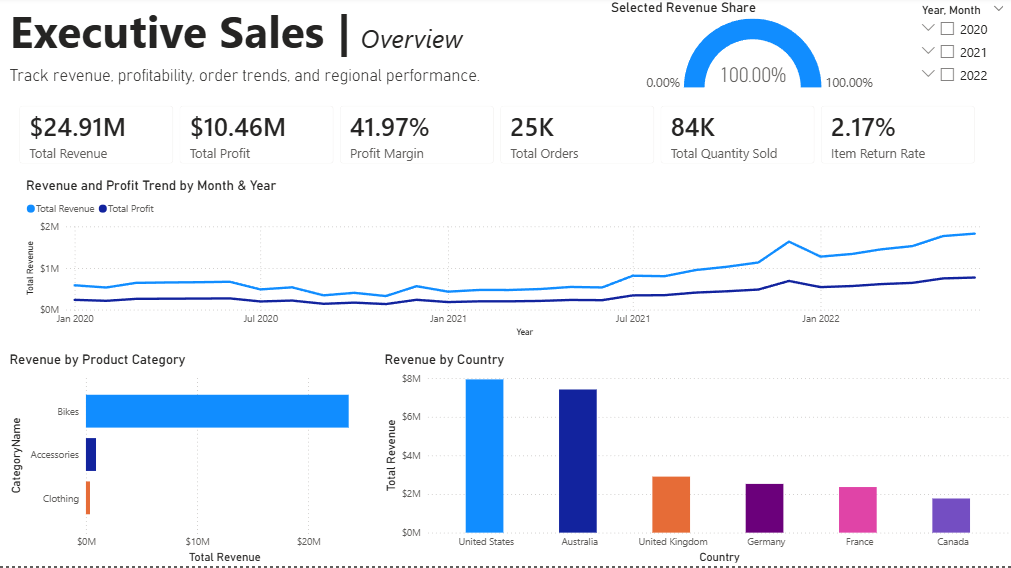

Layout of this report page (visuals, bound fields, positions):
{"tool":"powerbi","page":{"name":"Executive Sales Overview","canvas":[1280,720],"ordinal":0},"visuals":[{"type":"textbox","box":[9.4,0,1177.3,81.3],"z":0},{"type":"textbox","box":[10,81.7,1167.2,39.8],"z":1000},{"type":"lineChart","title":"Revenue and Profit Trend by Month & Year","fields":{"Category":["calendar_clean.Date.Variation.Date Hierarchy.Year","calendar_clean.Date.Variation.Date Hierarchy.Month"],"Y":["sales_clean.Total Revenue","sales_clean.Total Profit"]},"box":[29.9,229,1228.9,205.1],"z":2000},{"type":"cardVisual","fields":{"Data":["sales_clean.Total revenue","sales_clean.Total profit","sales_clean.Profit margins","sales_clean.Total Orders","sales_clean.Total Quantity Sold","sales_clean.Return Rate"]},"box":[10,121.5,1240.8,107.6],"z":3000},{"type":"slicer","fields":{"Values":["calendar_clean.Date.Variation.Date Hierarchy.Year","calendar_clean.Date.Variation.Date Hierarchy.Month"]},"box":[1150.9,3.8,128.5,132.3],"z":4000},{"type":"barChart","title":"Revenue by Product Category","fields":{"Category":["product_categories_clean.CategoryName"],"Y":["sales_clean.Total revenue"],"Series":["product_categories_clean.CategoryName"]},"box":[10,448.1,472,270.9],"z":5000},{"type":"columnChart","title":"Revenue by Country","fields":{"Category":["territories_clean.Country"],"Y":["sales_clean.Total Revenue"],"Series":["territories_clean.Country"]},"box":[482,448.1,798.7,270.9],"z":6000},{"type":"gauge","fields":{"Y":["sales_clean.Selected Revenue Share"]},"box":[767.2,3.8,383.6,120.9],"z":7000}]}

Visuals, with their boxes in screenshot pixels (x1, y1, x2, y2), scaled from the page's 1280x720 canvas onto the 1011x568 screenshot:
textbox: Rect(7, 0, 937, 64)
textbox: Rect(8, 64, 930, 96)
"Revenue and Profit Trend by Month & Year" lineChart: Rect(24, 181, 994, 342)
cardVisual - sales_clean.Total revenue x sales_clean.Total profit: Rect(8, 96, 988, 181)
slicer - calendar_clean.Date.Variation.Date Hierarchy.Year x calendar_clean.Date.Variation.Date Hierarchy.Month: Rect(909, 3, 1010, 107)
"Revenue by Product Category" barChart: Rect(8, 354, 381, 567)
"Revenue by Country" columnChart: Rect(381, 354, 1010, 567)
gauge - sales_clean.Selected Revenue Share: Rect(606, 3, 909, 98)
